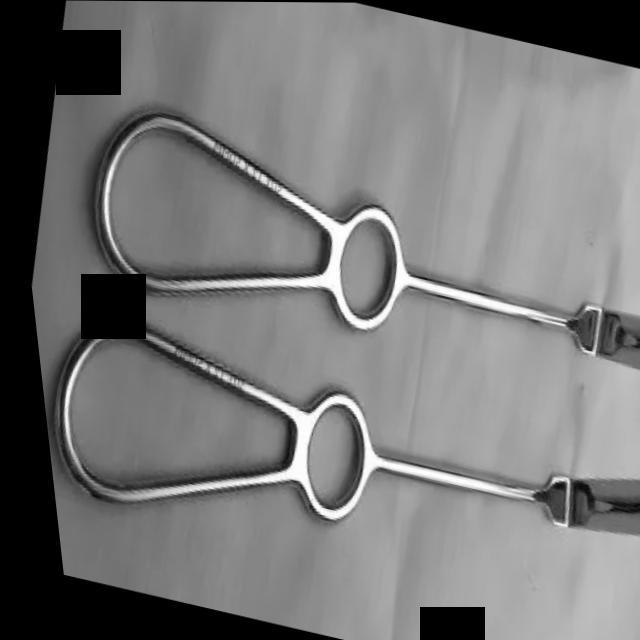Langenbach Retractor: (55, 56, 640, 418), (26, 295, 640, 634)
